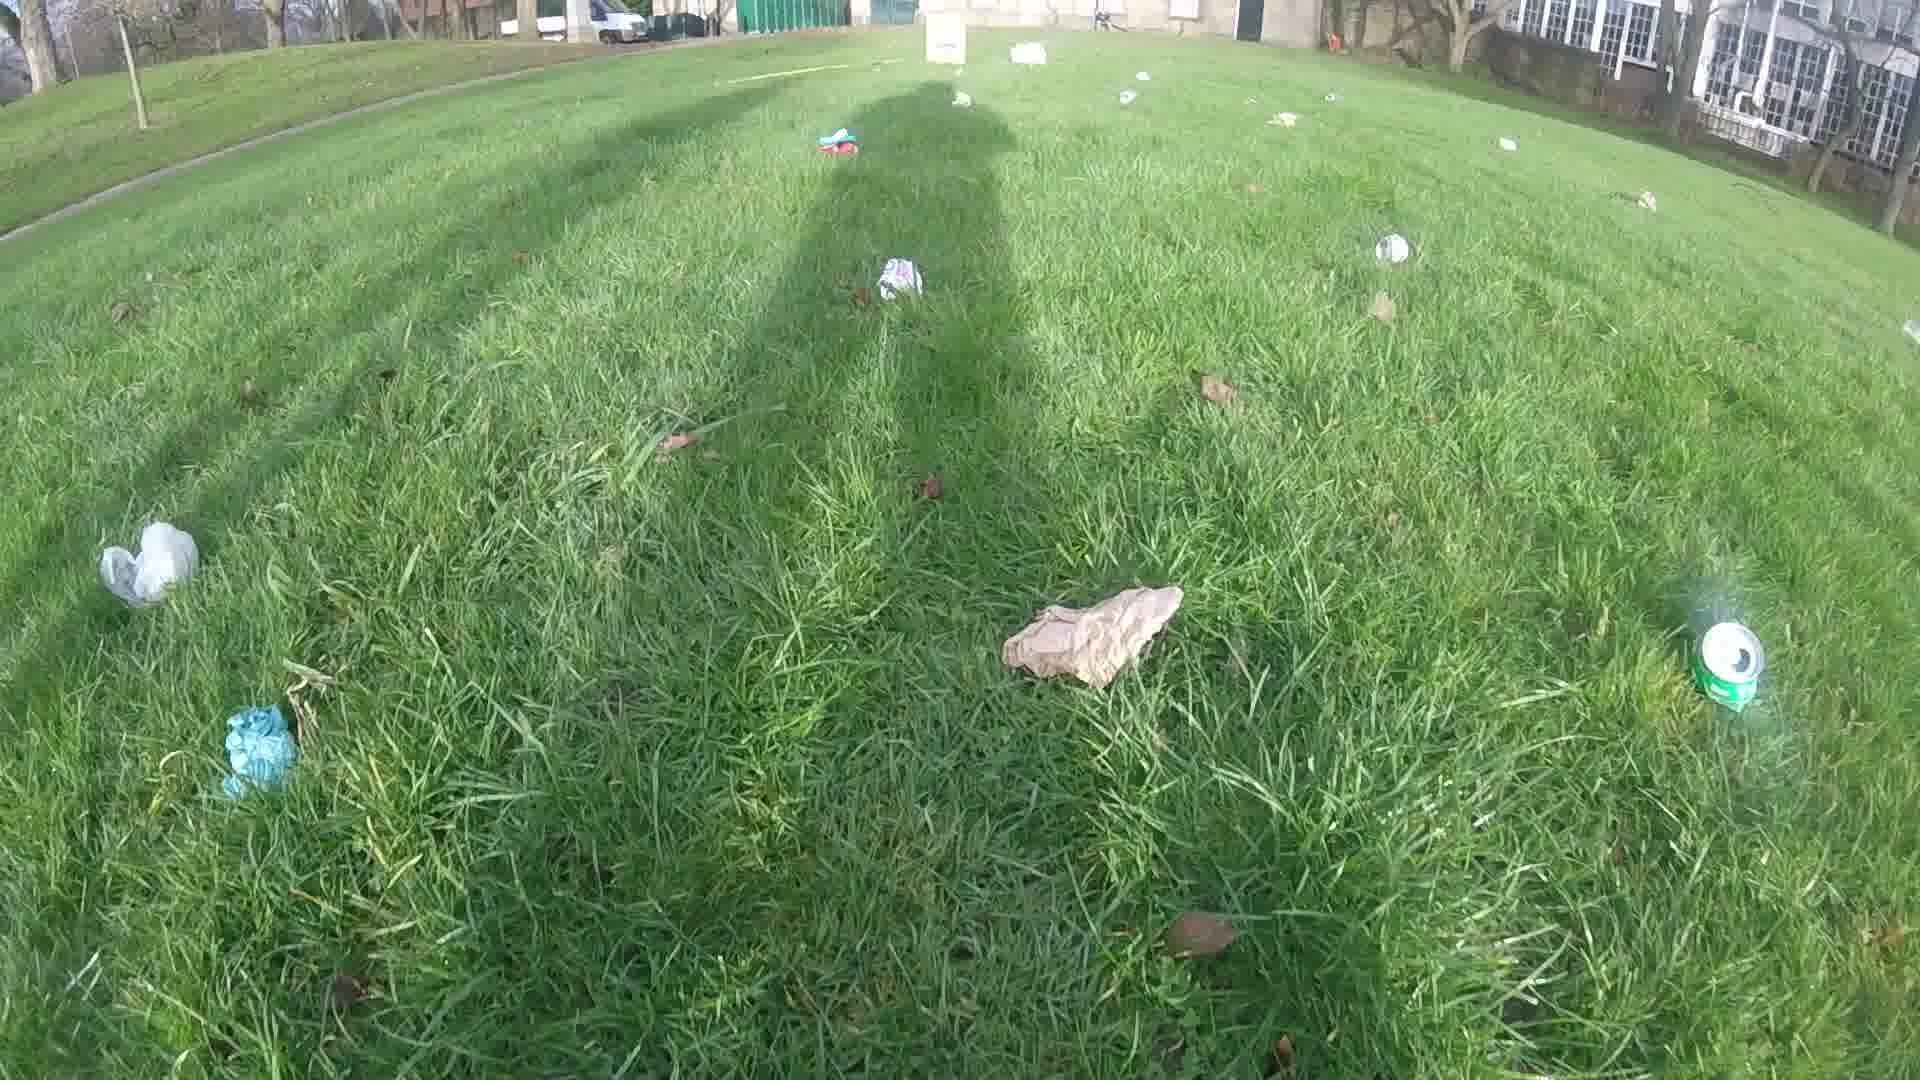litter: (1007, 584, 1184, 688), (99, 524, 202, 605), (224, 708, 297, 791), (1698, 624, 1764, 709), (924, 15, 967, 66), (877, 253, 924, 298), (1007, 40, 1048, 65), (1374, 233, 1408, 262), (818, 135, 860, 152), (1898, 320, 1920, 349), (1269, 109, 1298, 128), (1636, 191, 1659, 214), (1497, 135, 1519, 154), (948, 92, 973, 107), (1321, 90, 1337, 105), (1130, 73, 1153, 80), (1122, 90, 1135, 103)
